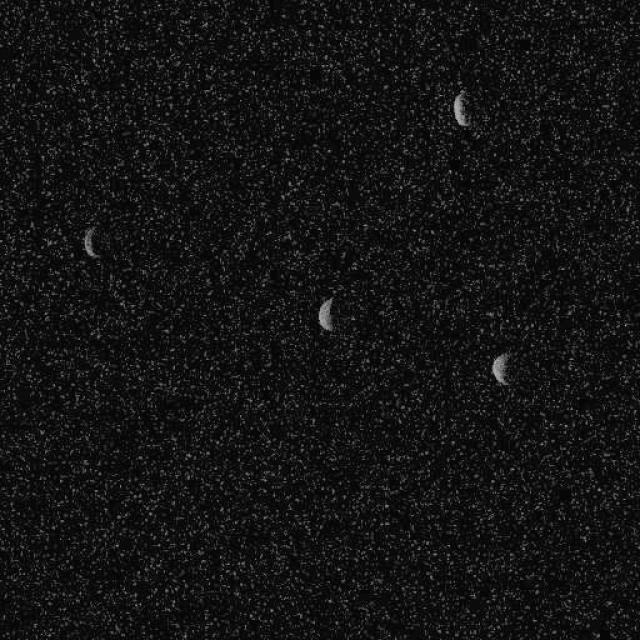D2: (452, 90, 472, 128), (490, 352, 511, 386), (316, 295, 334, 331), (81, 224, 100, 258)
